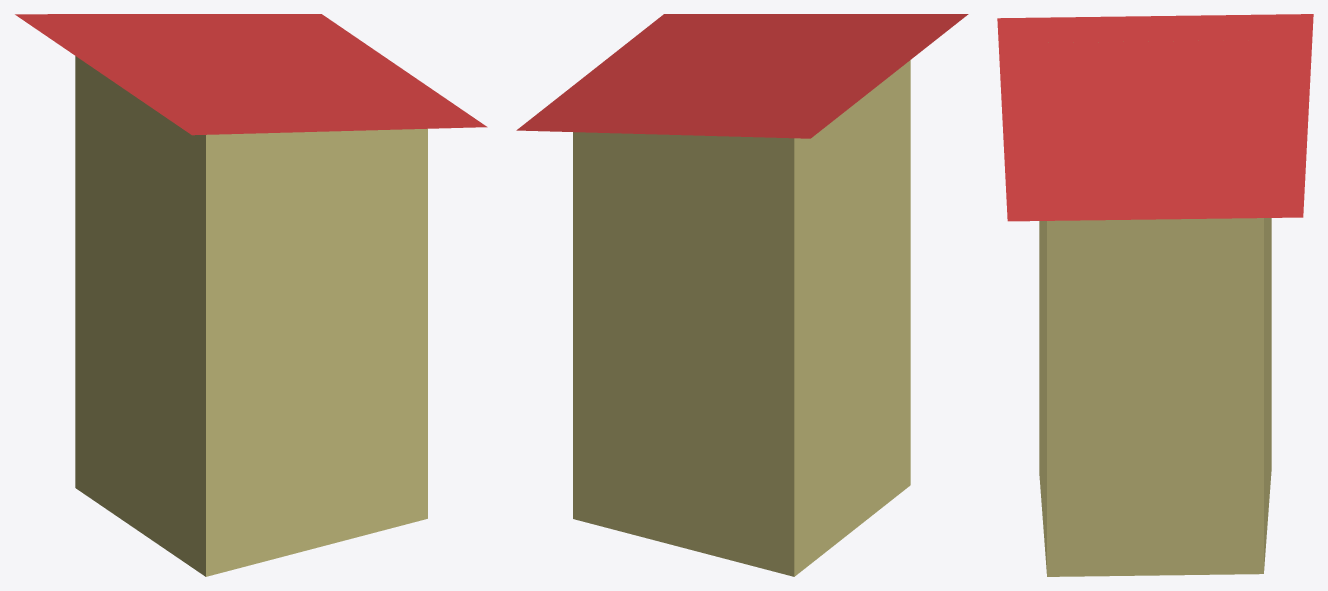
The picture shows the model from 3 angles, left to right: view 1: azimuth 30°, elevation 25°; view 2: azimuth 150°, elevation 25°; view 3: azimuth 270°, elevation 25°; orthographic projection. The views are drawn at different scales.
Size of the model in its own units: 4.14 by 3.89 by 5.95.
